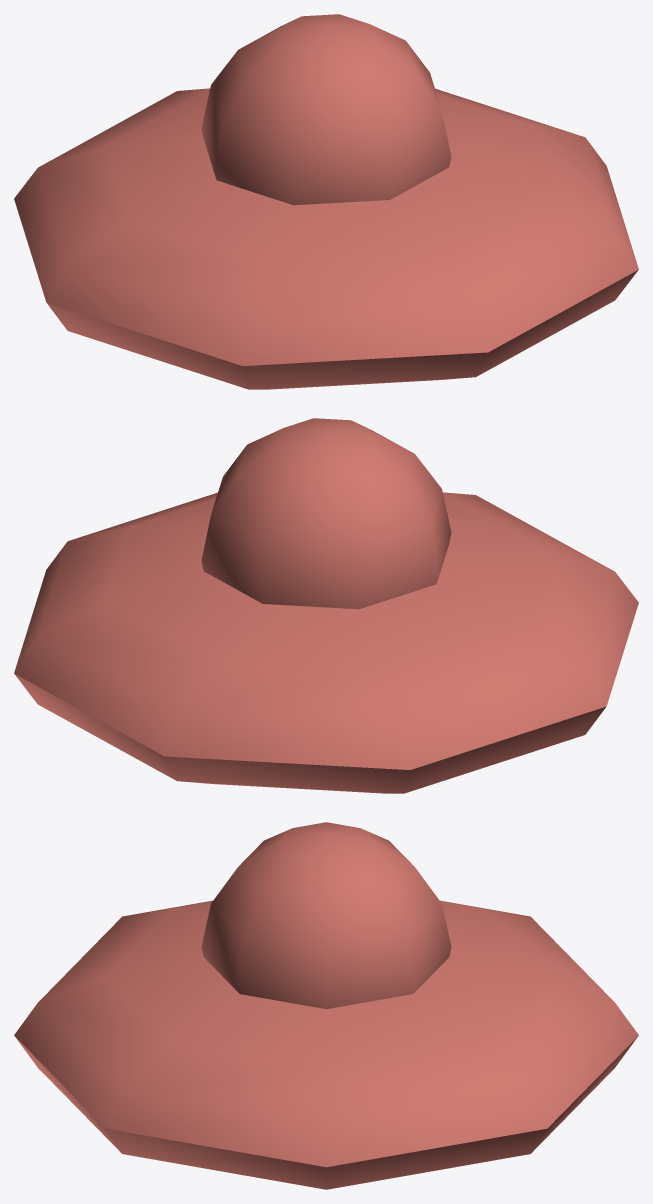
Rendered from ufo1.fbx.
3 renders of one model, top to bottom at view 1: azimuth 30°, elevation 25°; view 2: azimuth 150°, elevation 25°; view 3: azimuth 270°, elevation 25°, orthographic. The views are drawn at different scales.
Parts seen in each view (by area): view 1: obj1; view 2: obj1; view 3: obj1.
Part boxes in pixels (left/top/right/bottom): obj1: left=14, top=14, right=638, bottom=389; obj1: left=14, top=418, right=638, bottom=793; obj1: left=14, top=822, right=638, bottom=1189.
Bounding box in the file's own units: 200 × 101 × 200.
